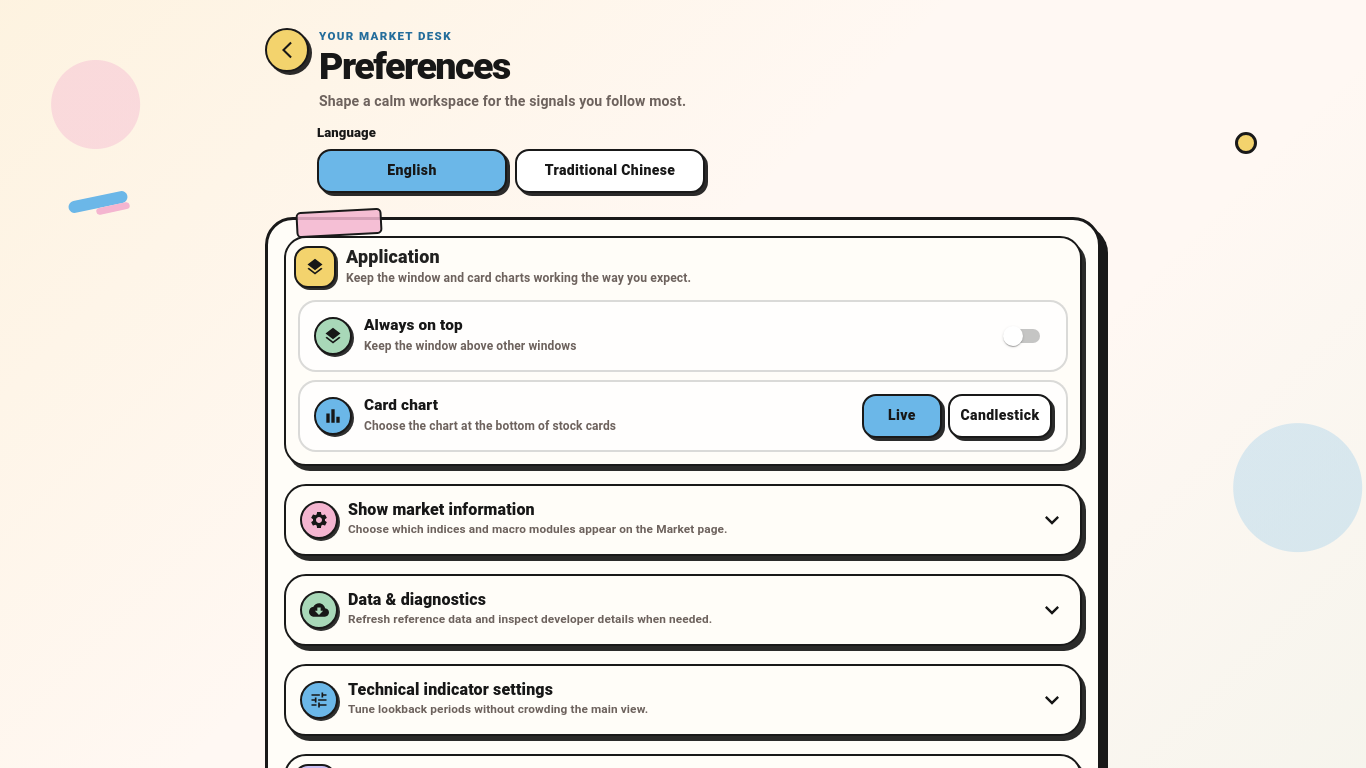
Settings page › falls back to all seven market modules when stored visibility is malformed
Click the button "Show market information": (683, 520) [286, 486, 1080, 554]
(page scrolled)
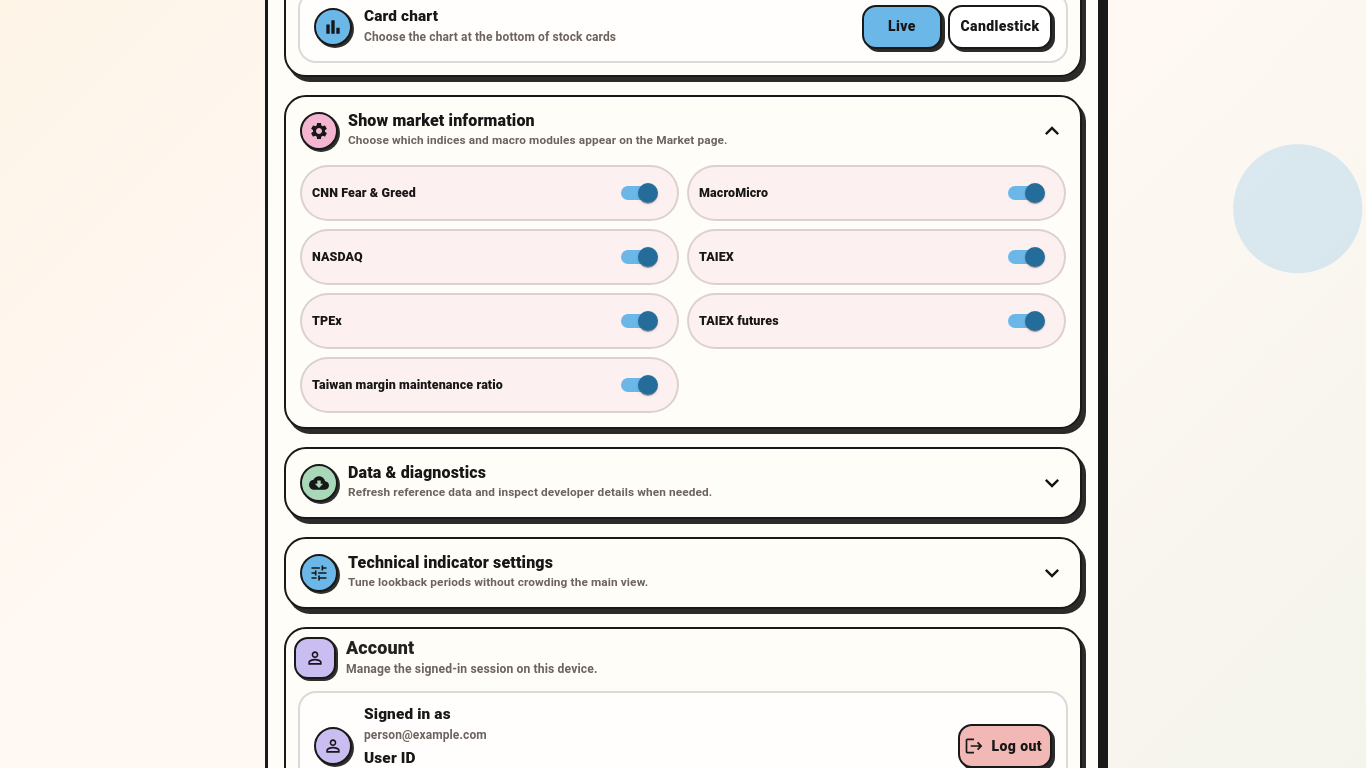
Expected: the switch named "CNN Fear & Greed" is checked, [638, 182, 658, 202]
Expected: the switch named "MacroMicro" is checked, [1025, 182, 1045, 202]
Expected: the switch named "NASDAQ" is checked, [638, 246, 658, 266]
